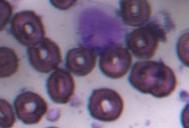L: (72, 2, 125, 56)
